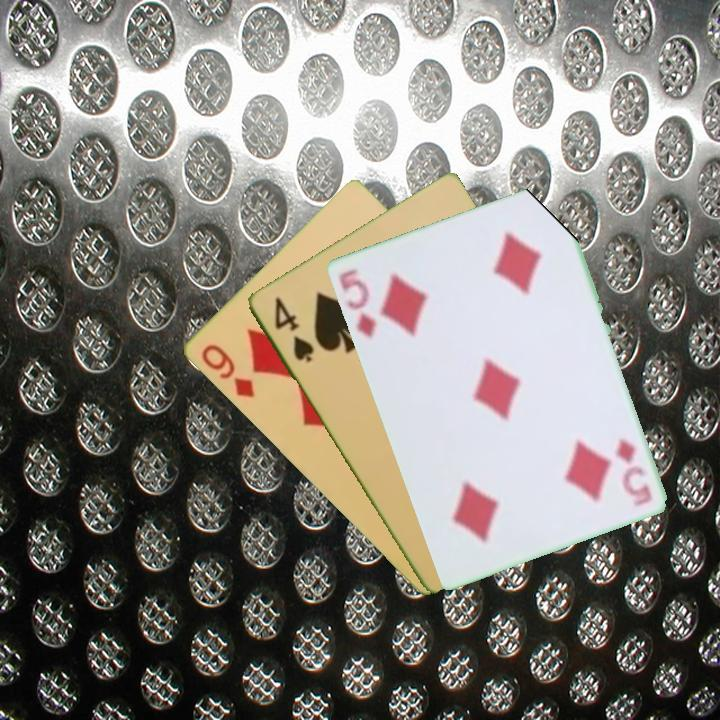4s: (270, 293, 317, 366)
5d: (334, 265, 380, 340), (613, 434, 655, 508)
9d: (197, 340, 258, 401)
